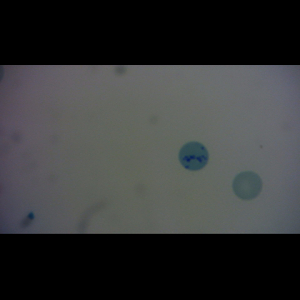aggregate reticulocyte: (178, 141, 209, 171)
erythrocyte: (231, 170, 263, 201)
